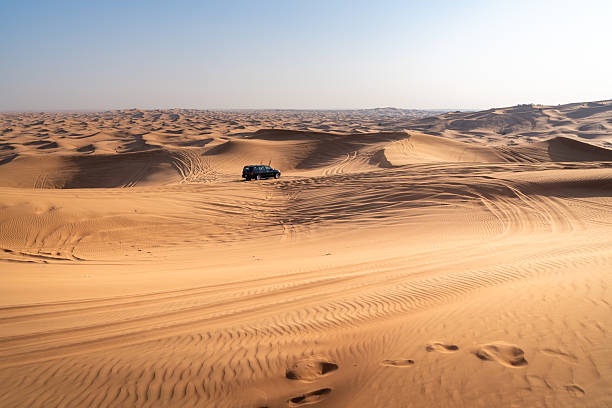vehicle_track: (0, 242, 611, 405), (0, 258, 555, 365), (275, 168, 579, 231), (474, 183, 583, 233), (0, 210, 87, 262), (172, 149, 217, 182), (322, 151, 357, 176)
